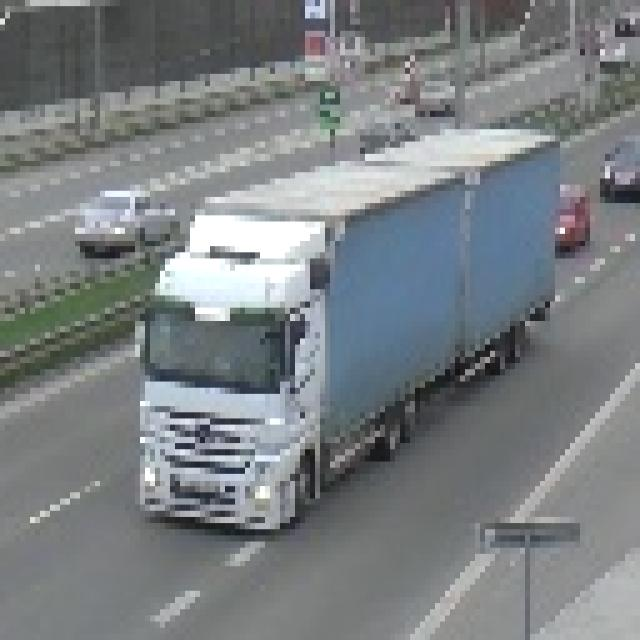SED: (76, 188, 190, 259)
SUV: (600, 134, 640, 204)
TRUCK: (131, 123, 558, 532)
